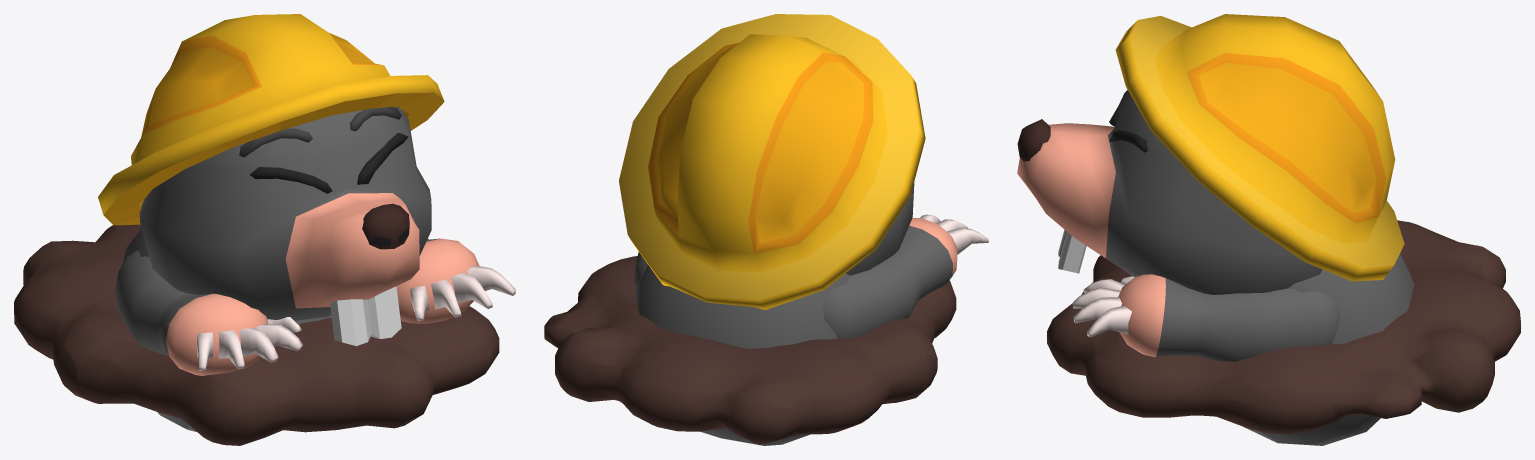
Rendered from mole.fbx.
3 views of the same model, side by side, from view 1: azimuth 30°, elevation 25°; view 2: azimuth 150°, elevation 25°; view 3: azimuth 270°, elevation 25° (orthographic). The views are drawn at different scales.
Parts seen in each view (by area): view 1: Cube.013, Mball.013, Cube.009, Cube.011, Cube.010; view 2: Cube.013, Mball.013, Cube.009, Cube.010; view 3: Cube.013, Mball.013, Cube.009, Cube.010, Cube.011.
Part boxes in pixels (x1,y1,x2,y2): Cube.013: (98,14,444,346); Mball.013: (14,224,499,445); Cube.009: (115,238,515,375); Cube.011: (239,107,408,193); Cube.010: (122,228,331,431); Cube.013: (619,14,925,309); Mball.013: (544,256,956,444); Cube.009: (633,214,988,338); Cube.010: (636,265,850,445); Cube.013: (1017,14,1404,294); Mball.013: (1047,220,1520,434); Cube.009: (1072,274,1340,361); Cube.010: (1242,226,1414,445); Cube.011: (1109,90,1148,152).
Bounding box in the file's own units: 2.7 × 2.77 × 3.13.
